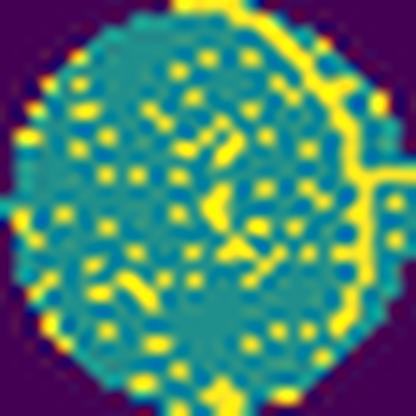Scratch: (170, 0, 414, 339)
